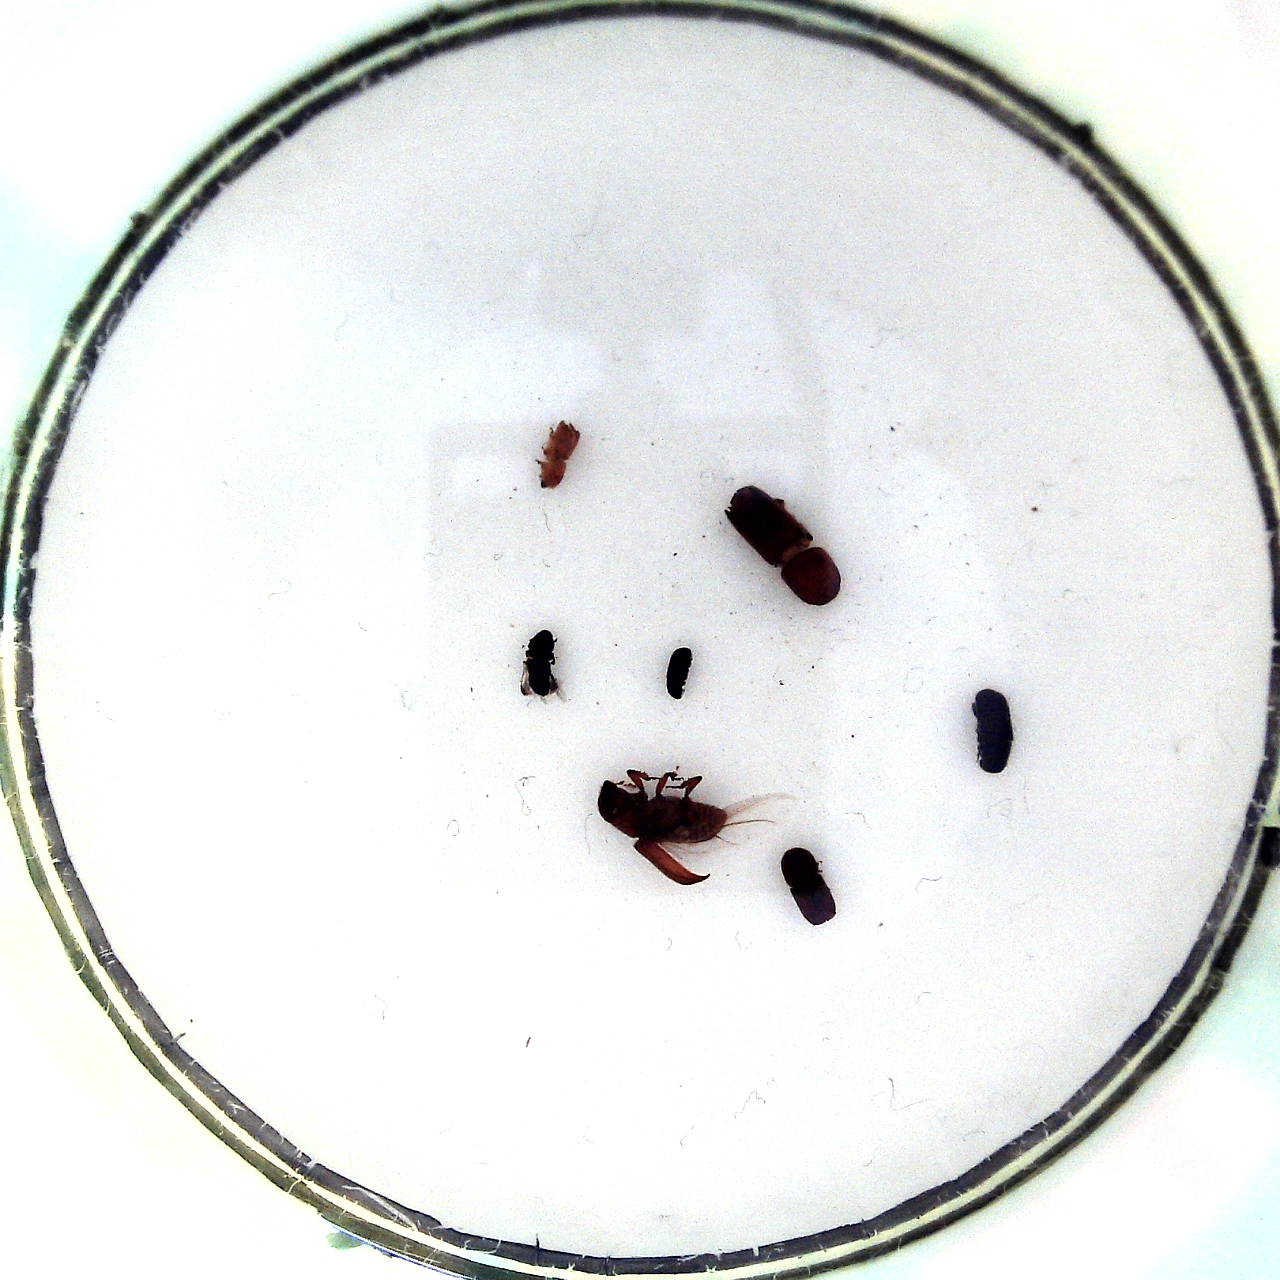Boerner: (716, 474, 849, 610)
Leconte: (591, 760, 796, 892)
Linnaeus: (776, 840, 839, 931)
acuminatus: (532, 415, 588, 492)
armandi: (965, 680, 1022, 775)
coleoptera: (519, 622, 568, 703), (658, 639, 699, 704)
